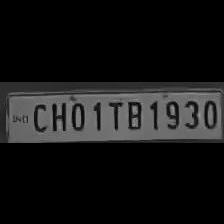0: (68, 100, 88, 132), (200, 97, 218, 129)
1: (88, 99, 106, 134), (144, 97, 160, 131)
3: (181, 97, 199, 130)
9: (161, 97, 181, 130)
B: (122, 97, 144, 131)
C: (28, 100, 48, 132)
H: (48, 99, 68, 133)
T: (103, 96, 123, 132)
